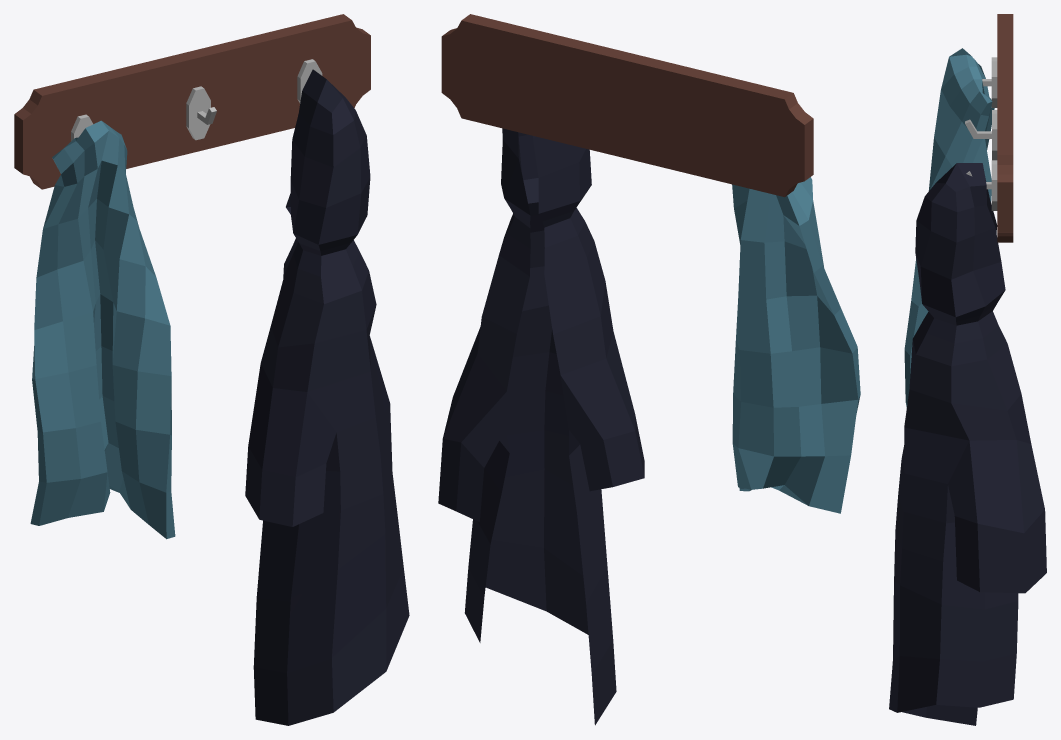
File: coat.fbx
3 views of the same model, side by side, from view 1: azimuth 30°, elevation 25°; view 2: azimuth 150°, elevation 25°; view 3: azimuth 270°, elevation 25° (orthographic). The views are drawn at different scales.
Parts seen in each view (by area): view 1: CoatHook_Full.003, CoatHook_Full.002, CoatHook_Full; view 2: CoatHook_Full.003, CoatHook_Full, CoatHook_Full.002; view 3: CoatHook_Full.003, CoatHook_Full.002, CoatHook_Full.
Part boxes in pixels (<box>): CoatHook_Full.003: <box>245,69,409,725</box>; CoatHook_Full.002: <box>30,120,175,539</box>; CoatHook_Full: <box>14,14,370,435</box>; CoatHook_Full.003: <box>438,128,644,725</box>; CoatHook_Full: <box>441,14,813,197</box>; CoatHook_Full.002: <box>732,177,860,513</box>; CoatHook_Full.003: <box>889,163,1046,725</box>; CoatHook_Full.002: <box>904,48,994,407</box>; CoatHook_Full: <box>904,14,1013,355</box>.
Size of the model in its own units: 124 by 210 by 48.57.
